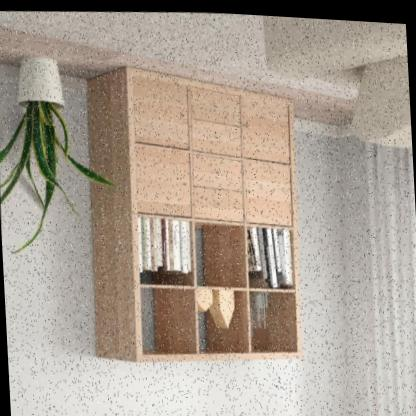Shelf: (73, 47, 316, 380)
